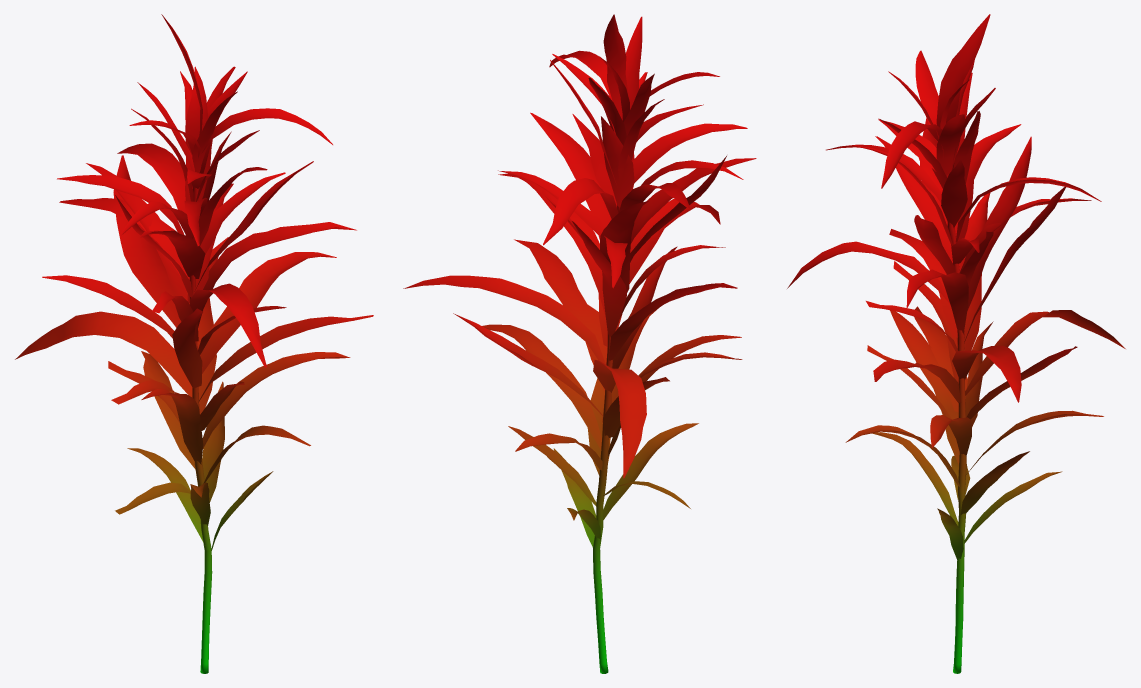
File: Butterfly Weed_LOD0_Var12.fbx
3 renders of one model, left to right at view 1: azimuth 30°, elevation 25°; view 2: azimuth 150°, elevation 25°; view 3: azimuth 270°, elevation 25°, orthographic. The views are drawn at different scales.
Visible parts, largest first — view 1: _xipr_Var12_LOD0; view 2: _xipr_Var12_LOD0; view 3: _xipr_Var12_LOD0.
Boxes of the visible parts, box(x1,y1,x2,y2) form: _xipr_Var12_LOD0: box(15, 14, 373, 673); _xipr_Var12_LOD0: box(403, 14, 756, 673); _xipr_Var12_LOD0: box(787, 14, 1125, 673).
Size of the model in its own units: 29.9 by 60.42 by 28.95.
